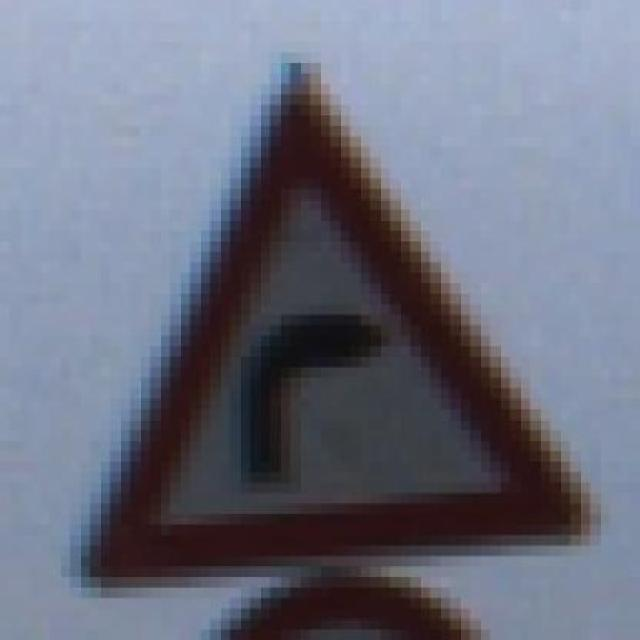Dangerous Rright Curve Ahead: (27, 64, 587, 578)
